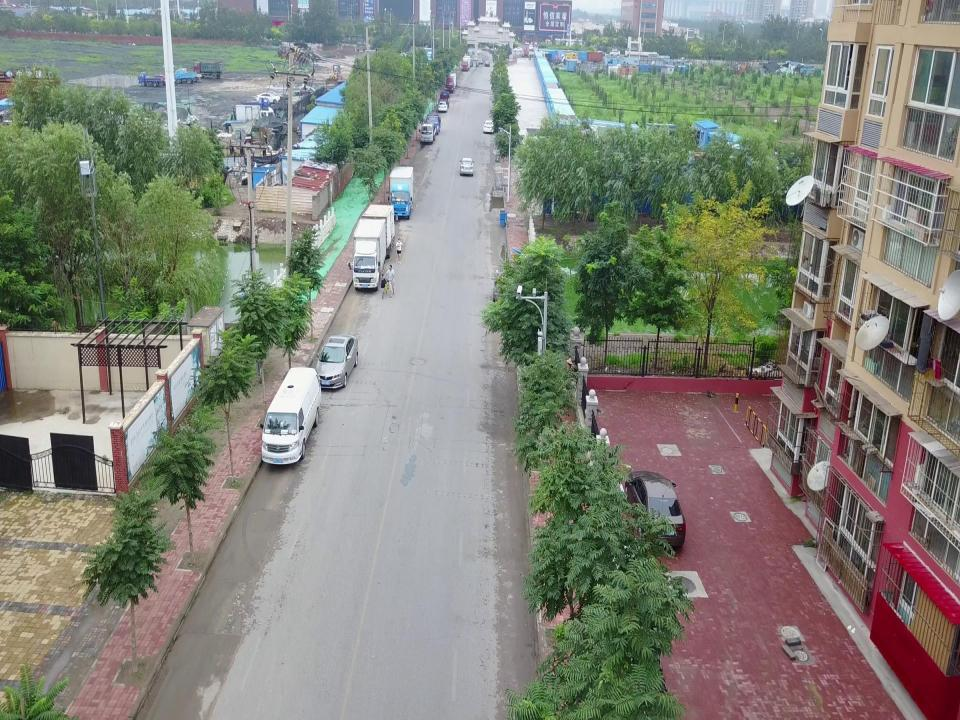car: (623, 468, 687, 554), (313, 332, 359, 393), (459, 156, 475, 176), (256, 92, 280, 105), (260, 90, 284, 103), (300, 85, 320, 98), (150, 74, 168, 87), (483, 119, 495, 134), (438, 100, 448, 112)
truck: (348, 217, 386, 292), (361, 203, 398, 259), (388, 165, 414, 220), (234, 104, 276, 133), (193, 60, 225, 79), (138, 72, 164, 88), (177, 67, 202, 83), (419, 123, 437, 145), (424, 114, 442, 136), (173, 69, 197, 84), (438, 91, 451, 109), (445, 73, 456, 93)
van: (259, 366, 323, 467)
